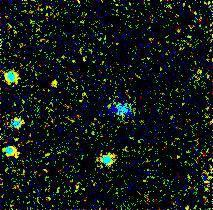star: (39, 67, 69, 97)
